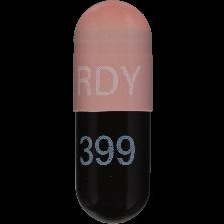55111-399: (0, 0, 224, 224)
